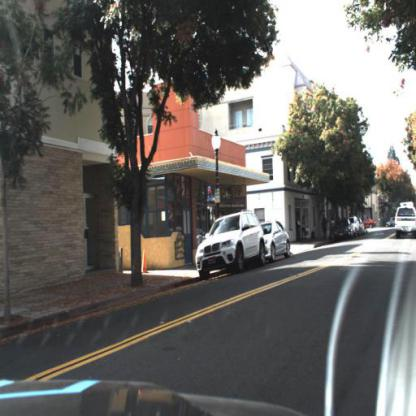car: (195, 211, 265, 281), (262, 221, 293, 261), (396, 204, 416, 242), (333, 220, 351, 243)
pedestrian: (321, 210, 329, 241), (321, 216, 329, 241), (296, 214, 302, 242), (303, 214, 308, 241)
